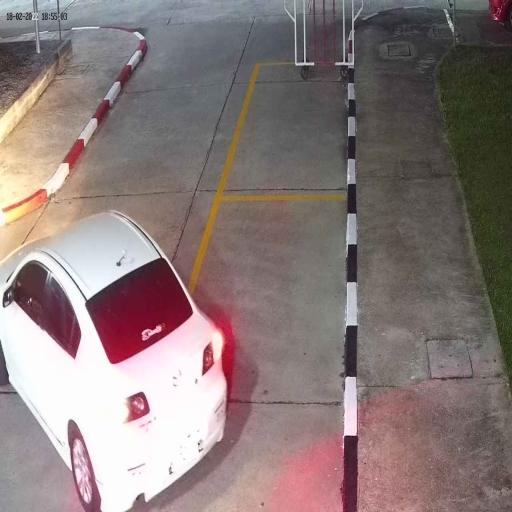car: (0, 205, 229, 512)
